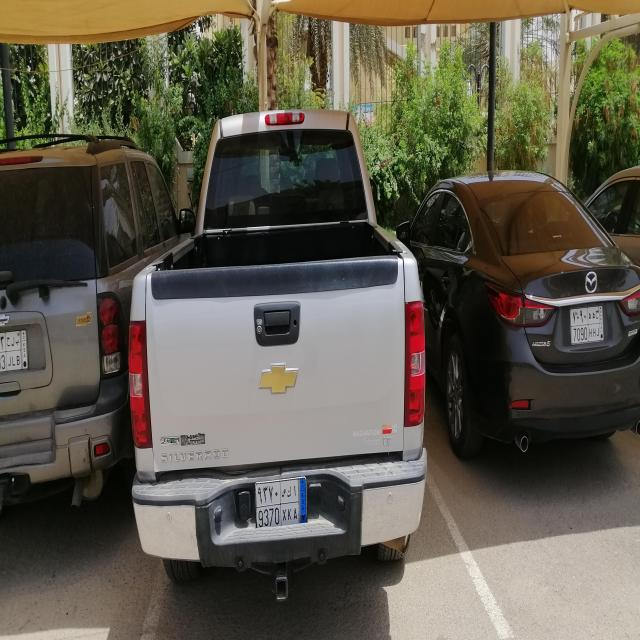license_plate: (254, 478, 306, 526), (0, 328, 28, 373), (570, 306, 603, 344)
